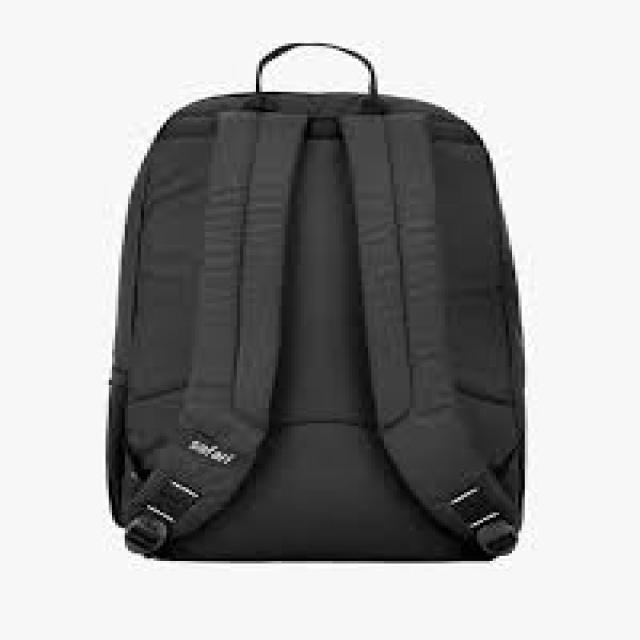backpack: (103, 42, 529, 562)
